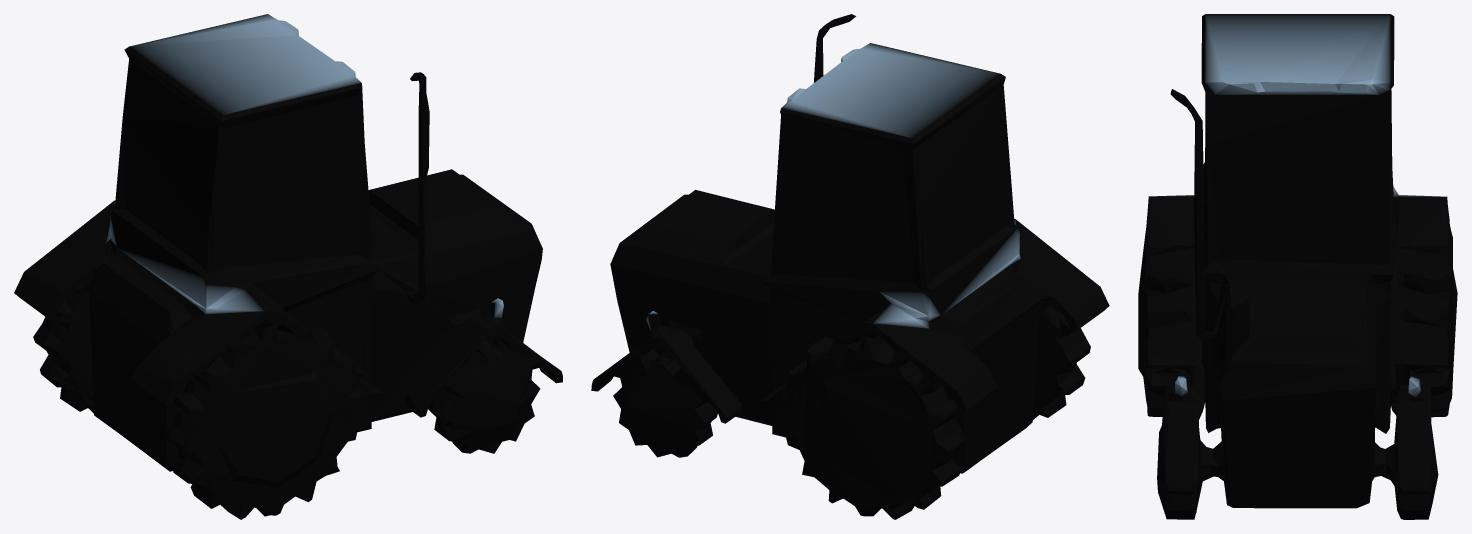
File: Tractors(2).glb
3 renders of one model, left to right at view 1: azimuth 30°, elevation 25°; view 2: azimuth 150°, elevation 25°; view 3: azimuth 270°, elevation 25°, orthographic. The views are drawn at different scales.
Parts seen in each view (by area): view 1: Root; view 2: Root; view 3: Root.
Boxes of the visible parts, x1,y1,x2,y2 form: Root: [14, 14, 562, 519]; Root: [591, 14, 1109, 519]; Root: [1138, 14, 1457, 519].
Bounding box in the file's own units: 4.04 × 3.69 × 2.73.
